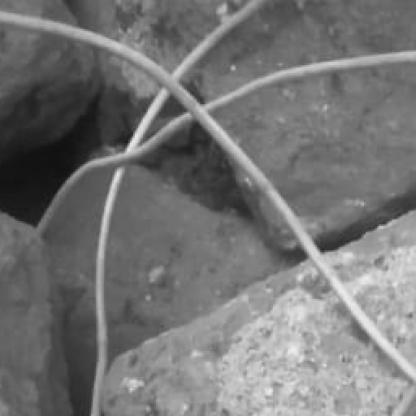wires: (2, 2, 414, 414)
